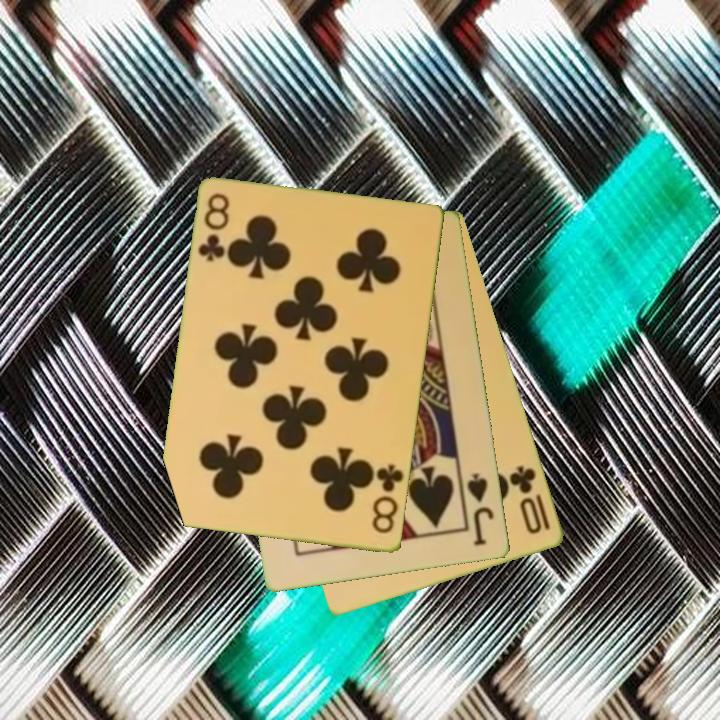10c: (506, 462, 554, 538)
8c: (369, 461, 407, 538), (195, 190, 233, 265)
Js: (464, 470, 498, 549)
